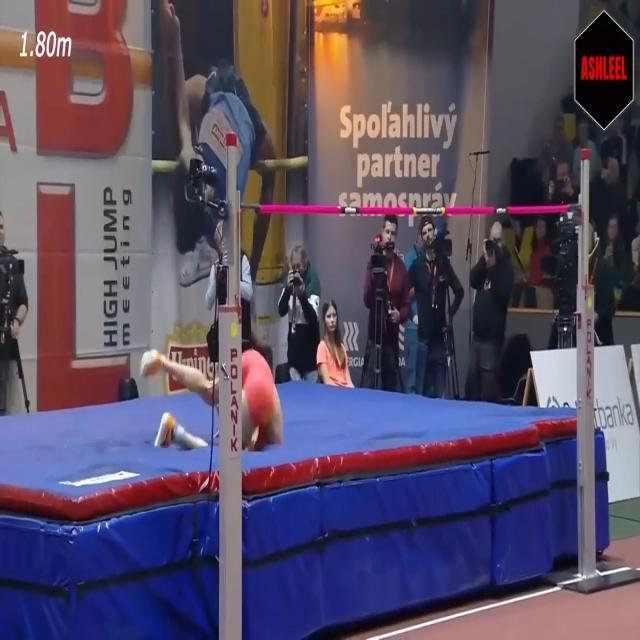land: (141, 350, 283, 449)
